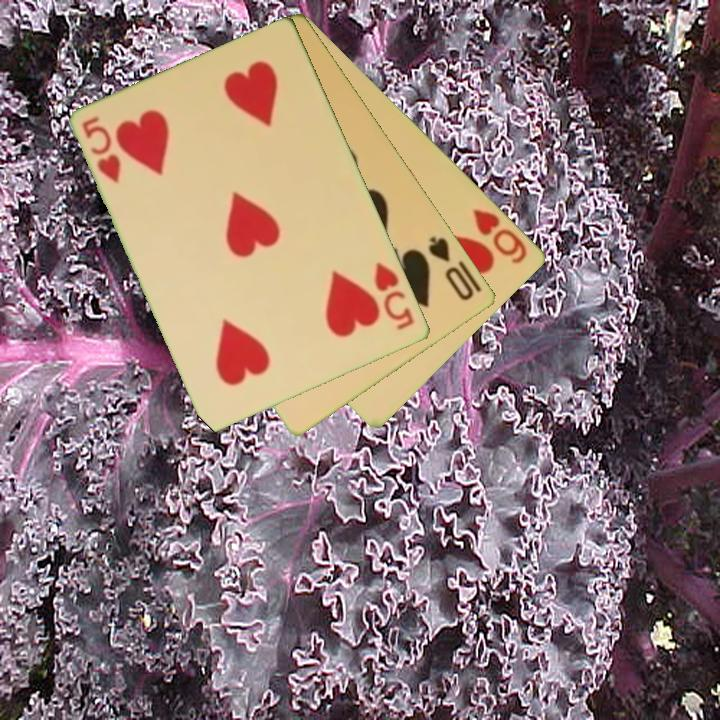10s: (425, 233, 477, 304)
5h: (371, 259, 418, 333), (79, 113, 125, 187)
6h: (469, 204, 531, 267)
